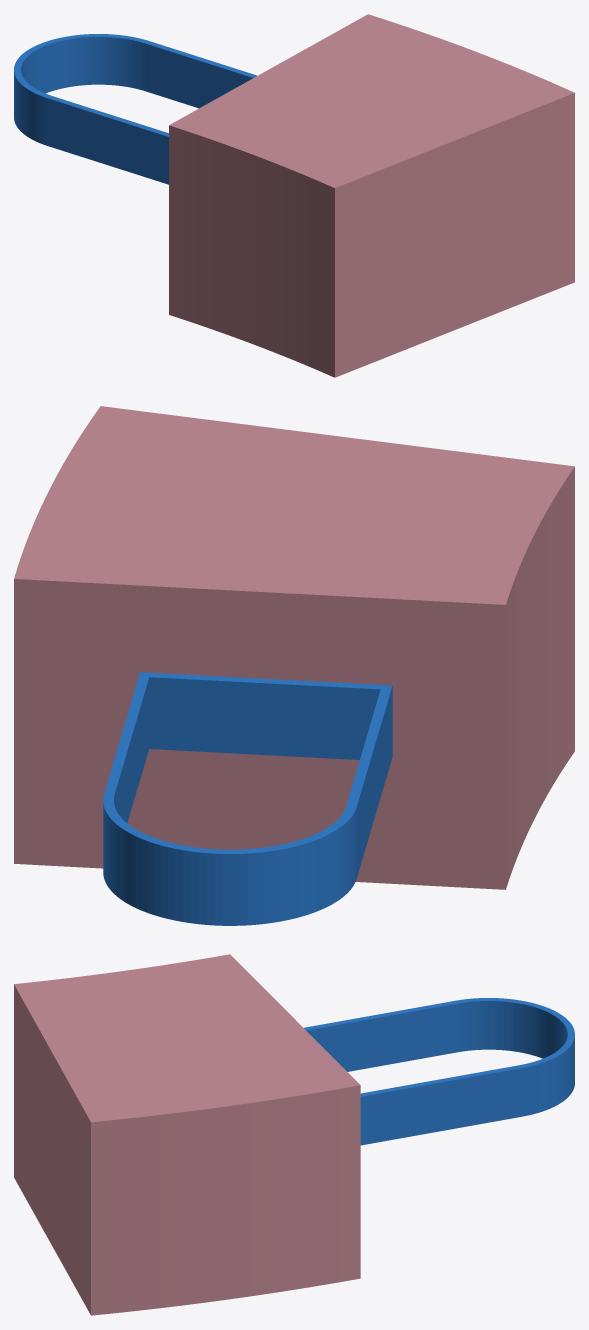
Rendered from door-rotated.fbx.
3 views of the same model, one above another, from view 1: azimuth 30°, elevation 25°; view 2: azimuth 150°, elevation 25°; view 3: azimuth 270°, elevation 25° (orthographic). The views are drawn at different scales.
Visible parts, largest first — view 1: door; view 2: door; view 3: door.
Boxes of the visible parts, left/top/right/bottom form: door: left=14, top=14, right=574, bottom=377; door: left=14, top=406, right=574, bottom=925; door: left=14, top=954, right=574, bottom=1315.
Bounding box in the file's own units: 170 × 86.84 × 228.
